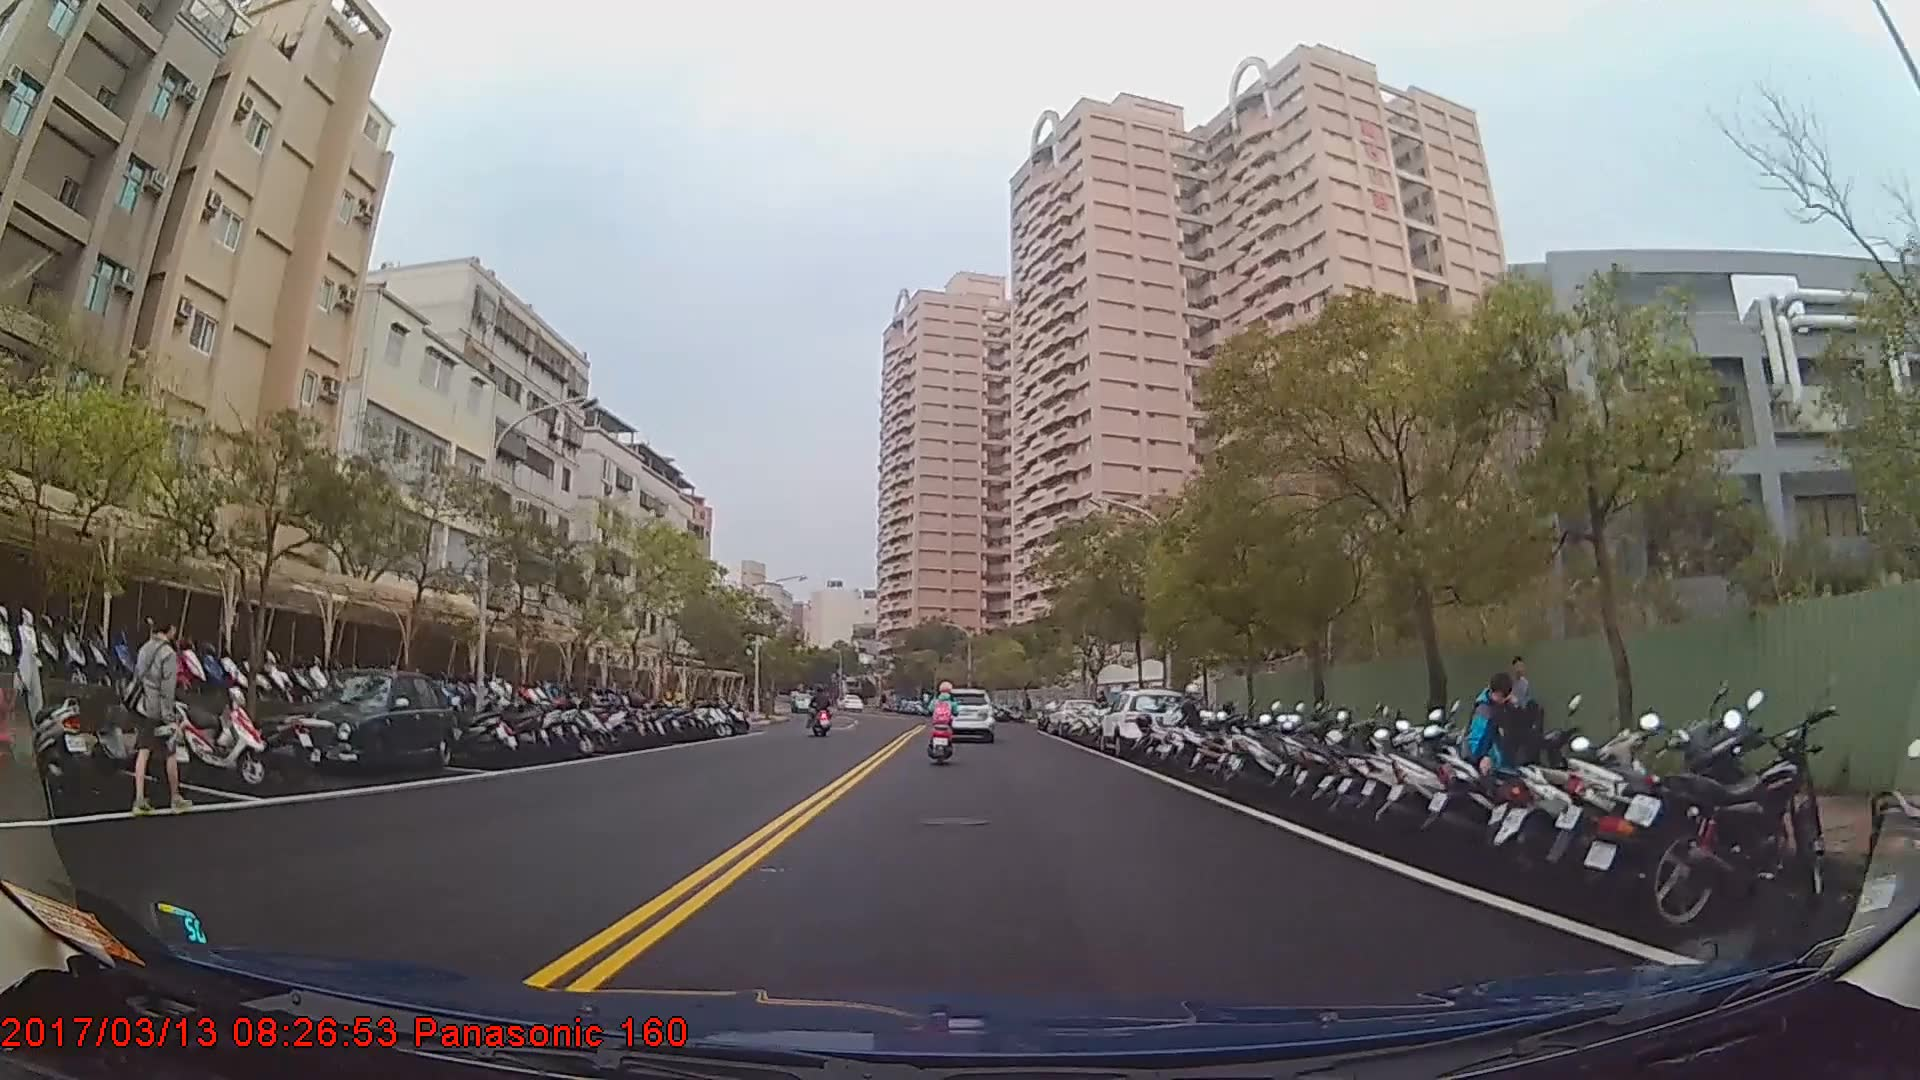pedestrian: (119, 613, 199, 815), (1468, 670, 1543, 845), (1491, 653, 1539, 769)
rider: (926, 674, 961, 761), (807, 684, 834, 737)
vehicle: (297, 667, 459, 778), (1097, 685, 1190, 755), (936, 682, 994, 735)
